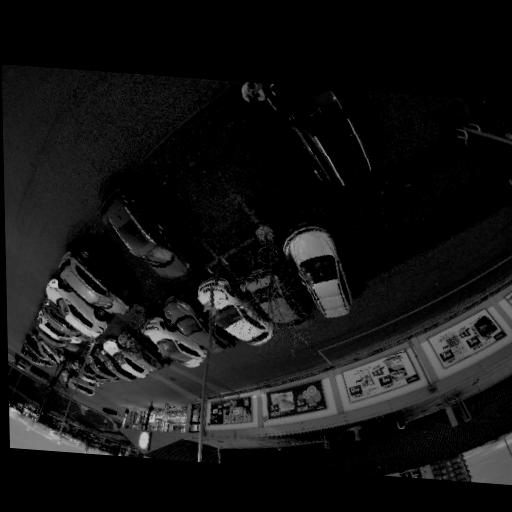busy: (265, 83, 385, 207), (280, 221, 371, 328), (102, 189, 206, 282), (204, 278, 278, 351), (62, 255, 138, 314), (243, 267, 315, 329), (142, 314, 207, 371), (162, 295, 215, 353), (49, 289, 113, 333), (119, 330, 168, 370), (106, 343, 157, 380), (39, 310, 92, 342), (27, 340, 63, 367), (64, 371, 98, 395), (85, 358, 117, 383)
free: (223, 140, 293, 197), (178, 182, 244, 232), (428, 155, 477, 213), (388, 184, 439, 235), (341, 214, 394, 258), (468, 144, 506, 204), (107, 248, 149, 277)
